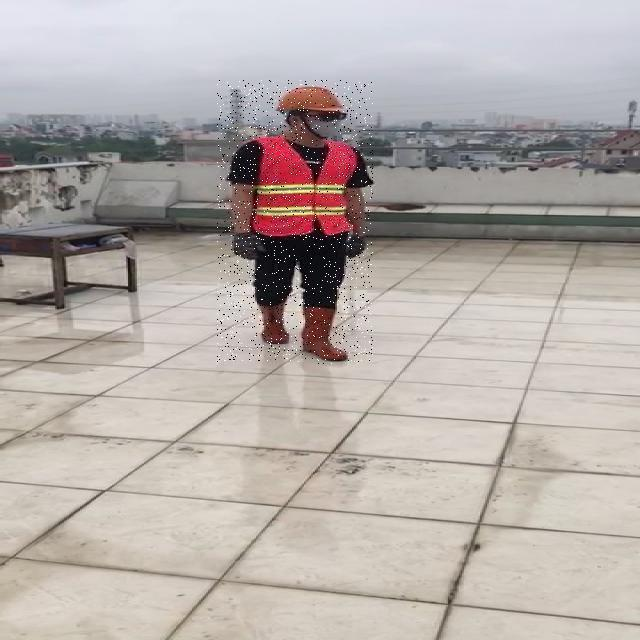gloves: (232, 231, 265, 261), (345, 233, 367, 260)
goggles: (307, 110, 346, 122)
helmet: (275, 84, 346, 114)
safety_vest: (252, 138, 358, 236)
